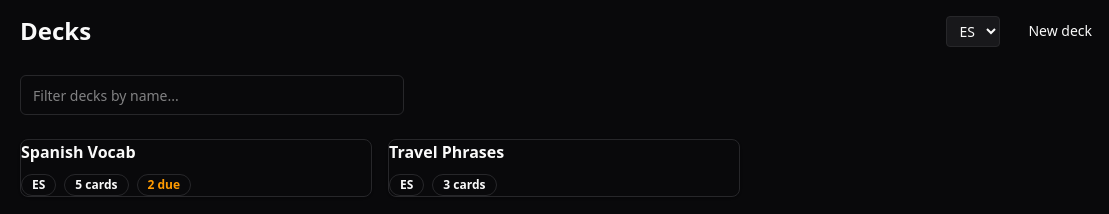
DeckGrid › filters decks by name input (client-side)
Check: the text "Spanish Vocab" is shown, box [21, 141, 136, 163]
Check: the text "Travel Phrases" is shown, box [389, 141, 504, 163]
Type "Spanish" into the field labelled "Filter decks by name..." at [212, 95], box [20, 75, 404, 115]
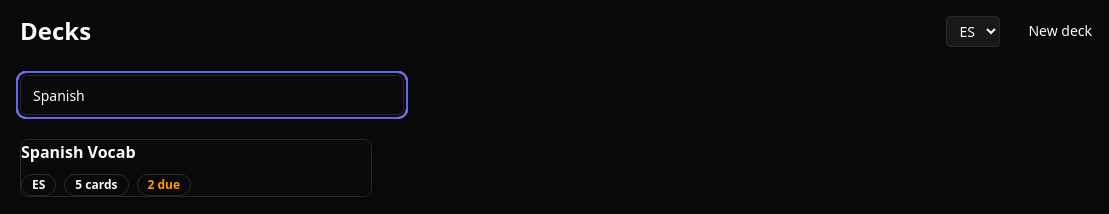
Check: the text "Spanish Vocab" is shown, box [21, 141, 136, 163]
Check: the link "Travel Phrases" is gone
